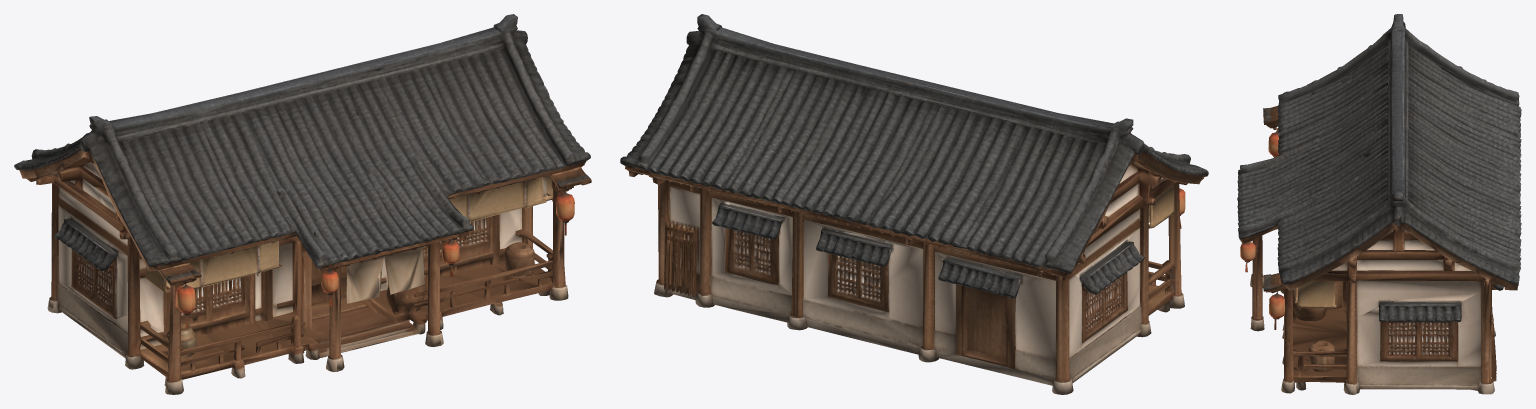
Rendered from 15_Small_Inn_LOD1.fbx.
3 views of the same model, side by side, from view 1: azimuth 30°, elevation 25°; view 2: azimuth 150°, elevation 25°; view 3: azimuth 270°, elevation 25° (orthographic). The views are drawn at different scales.
Parts seen in each view (by area): view 1: 15_Small_Inn_L1; view 2: 15_Small_Inn_L1; view 3: 15_Small_Inn_L1.
Part boxes in pixels (bbox=[...]): 15_Small_Inn_L1: bbox=[14, 14, 591, 394]; 15_Small_Inn_L1: bbox=[620, 14, 1208, 394]; 15_Small_Inn_L1: bbox=[1237, 14, 1521, 394].
Bounding box in the file's own units: 11.97 × 6 × 7.6.
